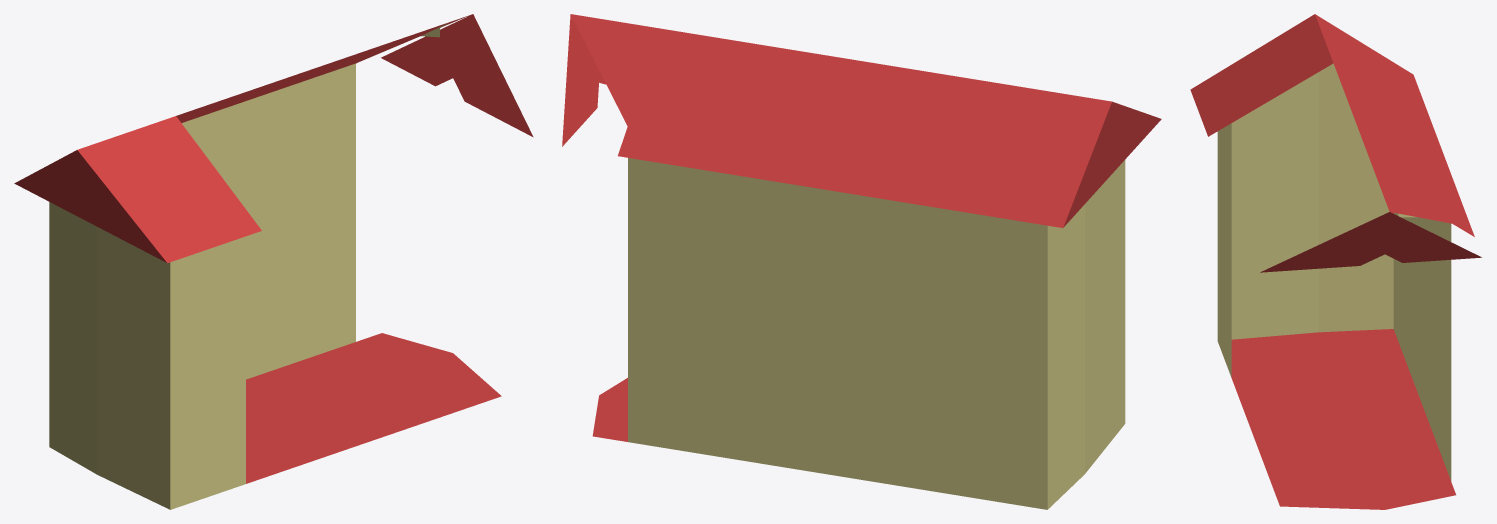
The picture shows the model from 3 angles, left to right: view 1: azimuth 30°, elevation 25°; view 2: azimuth 150°, elevation 25°; view 3: azimuth 270°, elevation 25°; orthographic projection. The views are drawn at different scales.
Bounding box in the file's own units: 15.05 × 9.19 × 10.69.
